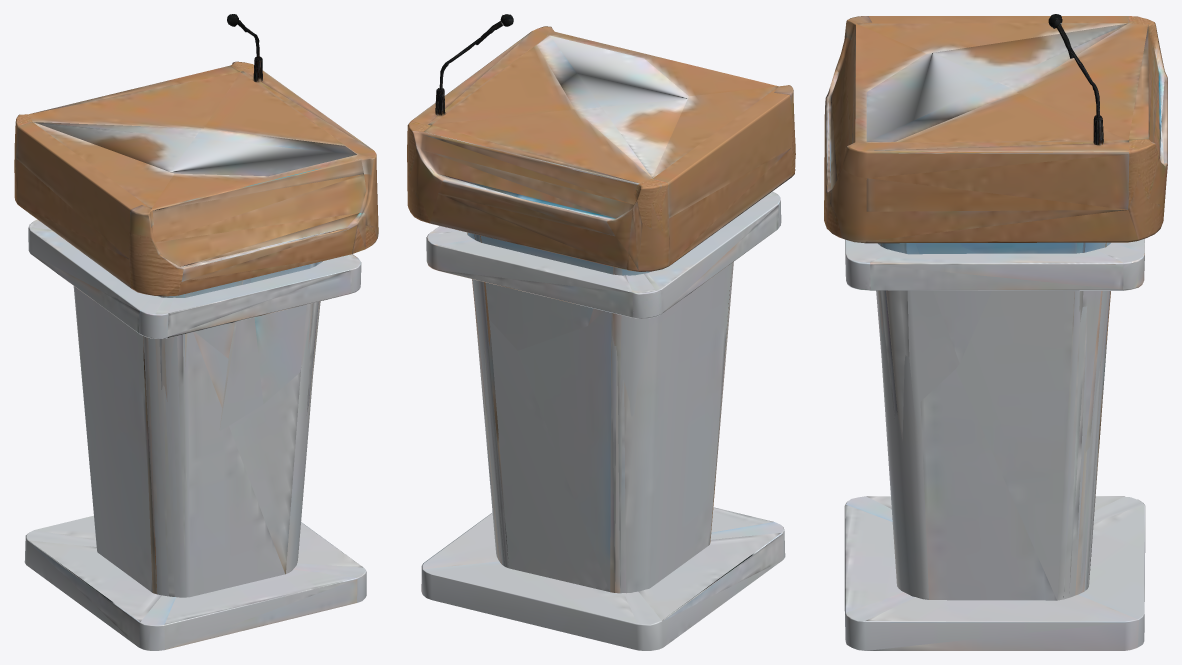
The model's file is lecture-podium.glb.
The picture shows the model from 3 angles, left to right: view 1: azimuth 30°, elevation 25°; view 2: azimuth 150°, elevation 25°; view 3: azimuth 270°, elevation 25°; orthographic projection. The views are drawn at different scales.
Bounding box in the file's own units: 0.4866 × 1 × 0.5134.
1 material, 1 textured.
